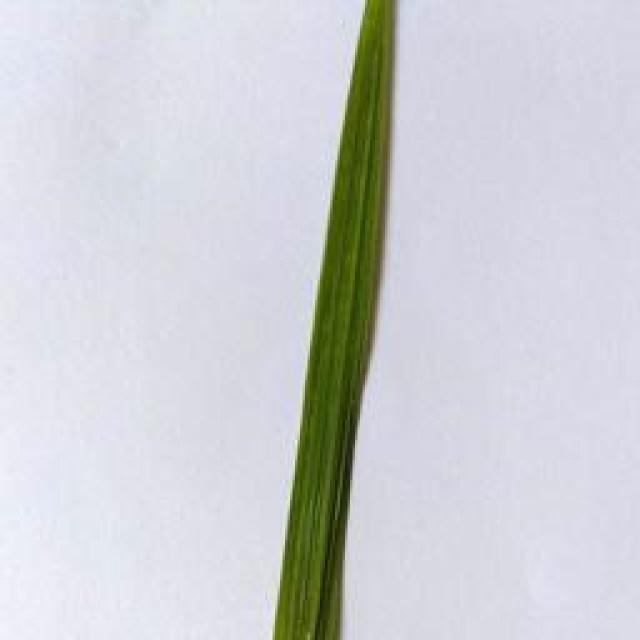Healthy-Plant: (275, 0, 399, 640)
